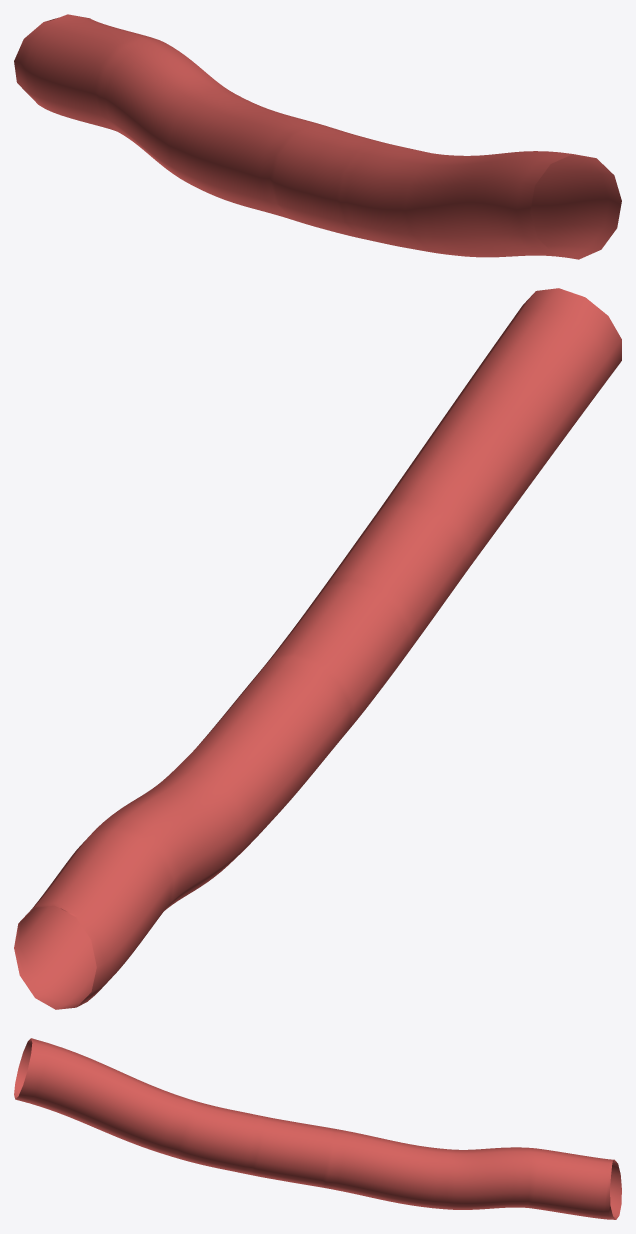
3 views of the same model, one above another, from view 1: azimuth 30°, elevation 25°; view 2: azimuth 150°, elevation 25°; view 3: azimuth 270°, elevation 25° (orthographic). The views are drawn at different scales.
Parts seen in each view (by area): view 1: 腹主动脉; view 2: 腹主动脉; view 3: 腹主动脉.
Boxes of the visible parts, left/top/right/bottom form: 腹主动脉: left=14, top=14, right=621, bottom=259; 腹主动脉: left=14, top=288, right=621, bottom=1009; 腹主动脉: left=14, top=1038, right=621, bottom=1219.
Size of the model in its own units: 0.0337 by 0.0879 by 0.2681.
